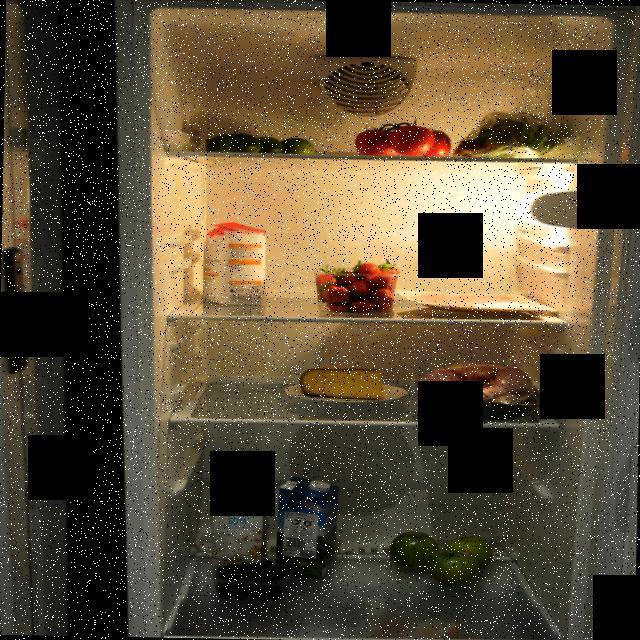apple: (389, 527, 502, 587)
blueberries: (215, 558, 292, 598)
cheese: (298, 364, 386, 402)
chicken: (414, 360, 546, 420)
green_beans: (454, 108, 574, 159)
ham: (410, 290, 540, 317)
lime: (202, 130, 316, 158)
milk: (276, 477, 344, 584), (208, 471, 274, 570)
strawberries: (309, 253, 401, 316)
sugar: (203, 217, 268, 308)
tomato: (350, 114, 456, 158)
